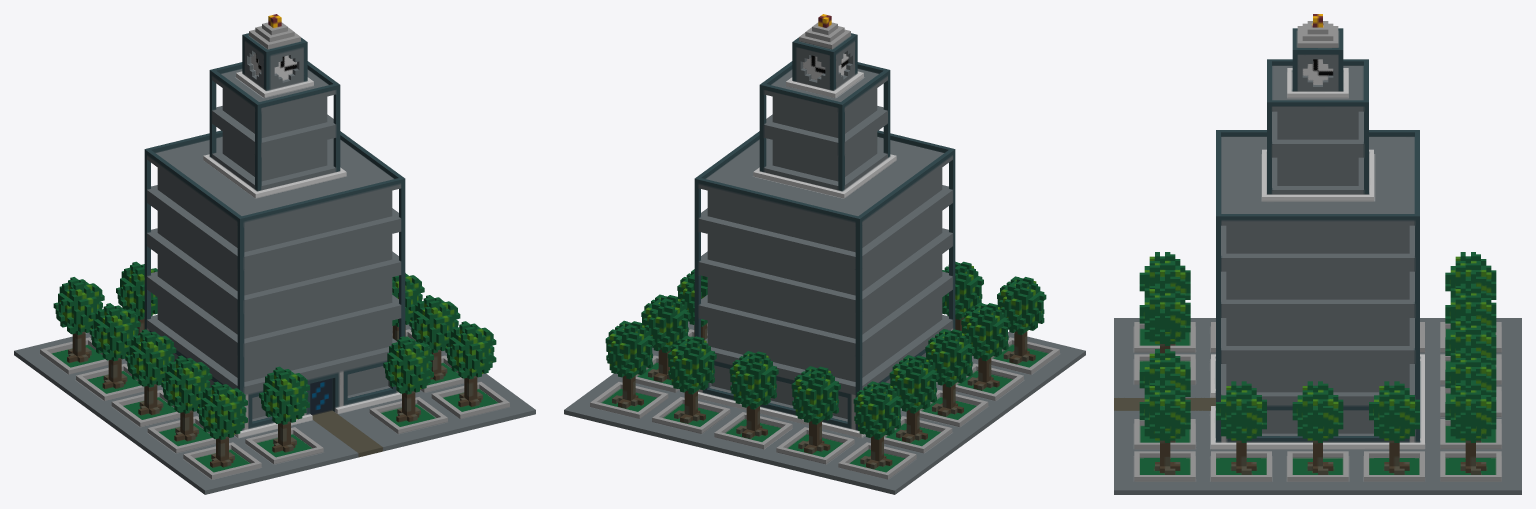
File: building_big_2_overtile.glb
The picture shows the model from 3 angles, left to right: view 1: azimuth 30°, elevation 25°; view 2: azimuth 150°, elevation 25°; view 3: azimuth 270°, elevation 25°; orthographic projection. The views are drawn at different scales.
Visible parts, largest first — view 1: building_big_2_overtile; view 2: building_big_2_overtile; view 3: building_big_2_overtile.
Boxes of the visible parts, x1,y1,x2,y2 form: building_big_2_overtile: (14, 14, 535, 494); building_big_2_overtile: (564, 14, 1085, 494); building_big_2_overtile: (1114, 14, 1521, 494).
Size of the model in its own units: 8 by 8.5 by 8.
1 material, 1 textured.
